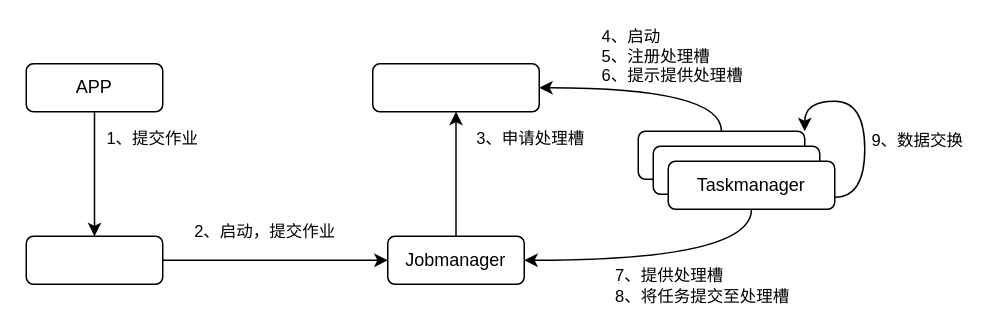
The diagram is 989 pixels wide and 330 high, and some of its shapes have lost their labels. The shapes that lost their labels are listed below. From the top down, each one's box as (x1, y1, x2, y2) in pixels, then its label:
(371, 62, 539, 112): ResourceManger
(25, 235, 163, 284): Dispatcher
